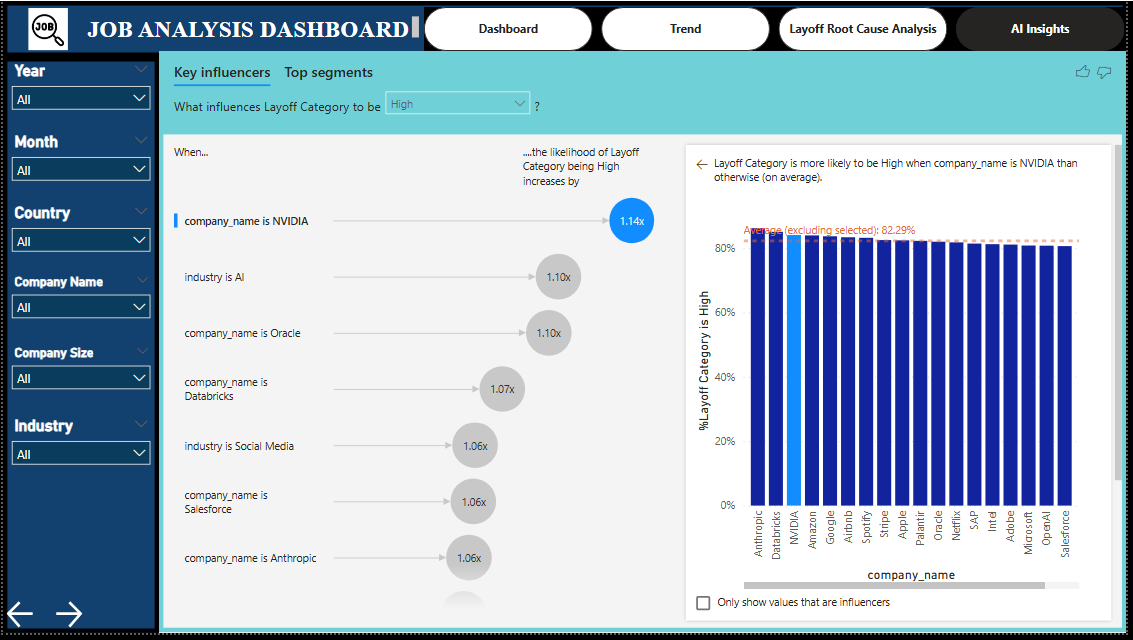

The page's visual inventory and layout, read from the dashboard file:
{"tool":"powerbi","page":{"name":"AI Insights","canvas":[1280,720],"ordinal":3},"visuals":[{"type":"group","id":"g1","title":"Group 5","box":[0,0,1280.5,64.2],"z":0},{"type":"shape","box":[0,0,1280.5,63.8],"z":1000,"group":"g1"},{"type":"group","id":"g2","title":"Group 6","box":[0,63.8,177.7,656.2],"z":1000},{"type":"actionButton","box":[55.2,679.2,47.5,39.8],"z":1001},{"type":"actionButton","box":[0,679.2,55.2,39.8],"z":1002},{"type":"pageNavigator","box":[480.2,6.4,799.8,50.1],"z":1003},{"type":"shape","box":[177.7,63.8,1102.8,655.1],"z":1004},{"type":"keyDriversVisual","fields":{"ExplainBy":["Count(Job_Analysis.year)","Job_Analysis.country","Job_Analysis.industry","Job_Analysis.company_name"],"Target":["Job_Analysis.Layoff Category"]},"box":[177.7,57,1101.6,661.9],"z":1005},{"type":"textbox","box":[88.6,12.8,390.3,37.2],"z":2000,"group":"g1"},{"type":"image","box":[24.4,0,55.2,64.2],"z":3000,"group":"g1"},{"type":"shape","box":[0,63.8,177.7,656.2],"z":4000,"group":"g2"},{"type":"slicer","fields":{"Values":["Job_Analysis.year"]},"box":[0,63.8,177.7,80.9],"z":12000,"group":"g2"},{"type":"slicer","fields":{"Values":["Job_Analysis.month"]},"box":[0,144.7,177.7,80.9],"z":13000,"group":"g2"},{"type":"slicer","fields":{"Values":["Job_Analysis.country"]},"box":[0,225.6,177.7,80.9],"z":14000,"group":"g2"},{"type":"slicer","fields":{"Values":["Job_Analysis.company_name"]},"box":[0,306.5,177.7,80.9],"z":15000,"group":"g2"},{"type":"slicer","fields":{"Values":["Job_Analysis.company_size"]},"box":[0,387.3,177.7,80.9],"z":16000,"group":"g2"},{"type":"slicer","fields":{"Values":["Job_Analysis.industry"]},"box":[0,468.2,177.7,80.9],"z":17000,"group":"g2"}]}

Visuals, with their boxes in screenshot pixels (x1, y1, x2, y2), scaled from the page's 1280x720 canvas onto the 1133x640 screenshot:
"Group 5" group: left=0, top=0, right=1132, bottom=57
shape: left=0, top=0, right=1132, bottom=57
"Group 6" group: left=0, top=57, right=157, bottom=639
actionButton: left=49, top=604, right=91, bottom=639
actionButton: left=0, top=604, right=49, bottom=639
pageNavigator: left=425, top=6, right=1132, bottom=50
shape: left=157, top=57, right=1132, bottom=639
keyDriversVisual - Count(Job_Analysis.year) x Job_Analysis.country: left=157, top=51, right=1132, bottom=639
textbox: left=78, top=11, right=424, bottom=44
image: left=22, top=0, right=70, bottom=57
shape: left=0, top=57, right=157, bottom=639
slicer - Job_Analysis.year: left=0, top=57, right=157, bottom=129
slicer - Job_Analysis.month: left=0, top=129, right=157, bottom=201
slicer - Job_Analysis.country: left=0, top=201, right=157, bottom=272
slicer - Job_Analysis.company_name: left=0, top=272, right=157, bottom=344
slicer - Job_Analysis.company_size: left=0, top=344, right=157, bottom=416
slicer - Job_Analysis.industry: left=0, top=416, right=157, bottom=488
